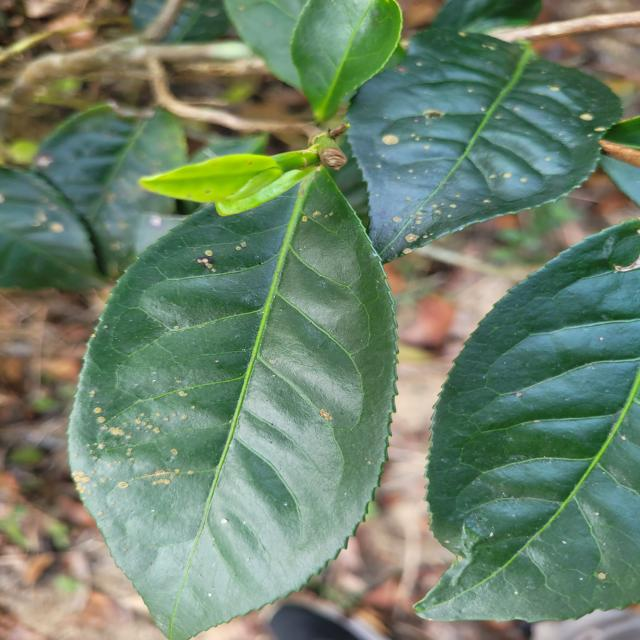Category D(7+ days, Not for Tea): (51, 153, 408, 635)
